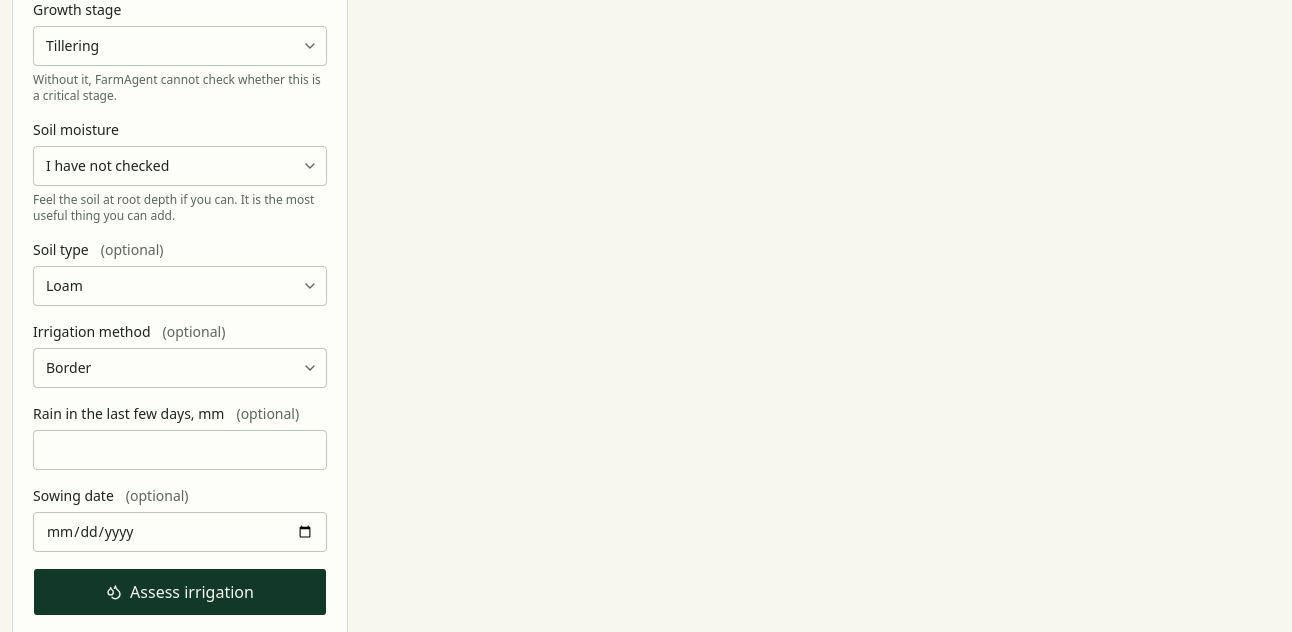
Test: IrrigationPage › does not offer to save a result that recommends nothing
This screenshot has width=1292, height=632.
(page scrolled)
Click the button "Assess irrigation".
click(180, 592)  # box [33, 568, 327, 616]
(page scrolled)
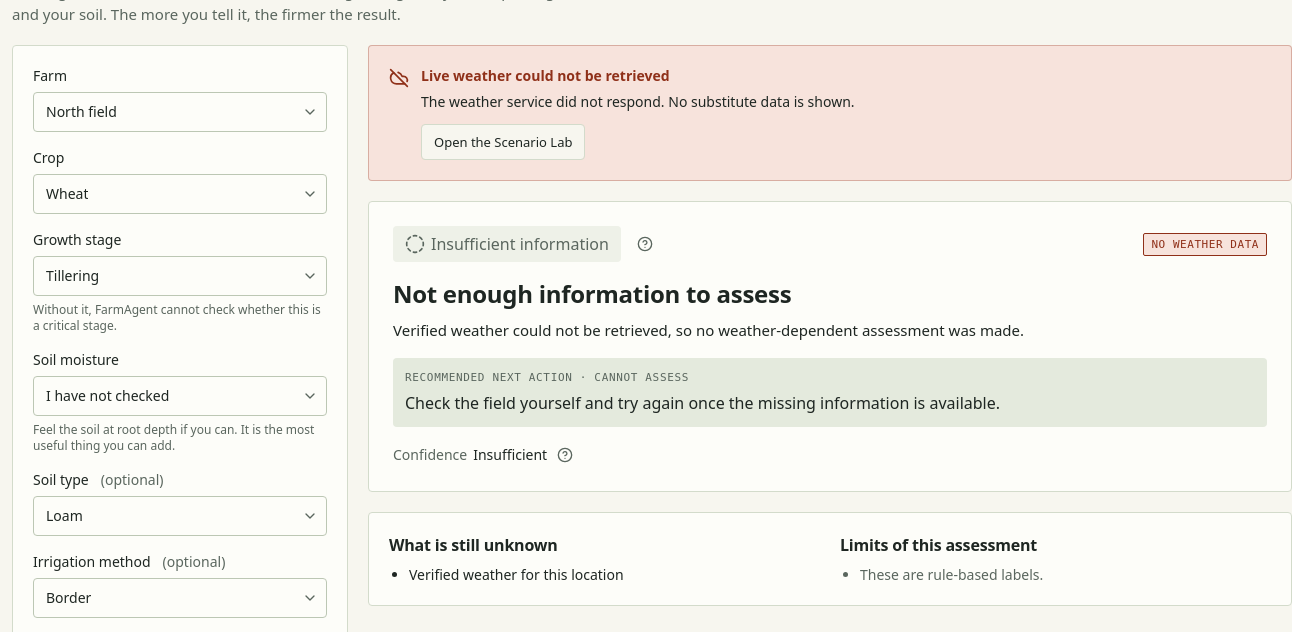
Check: the element with test id "irrigation-result" is shown
